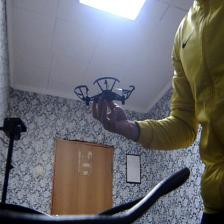drone: (70, 73, 136, 115)
